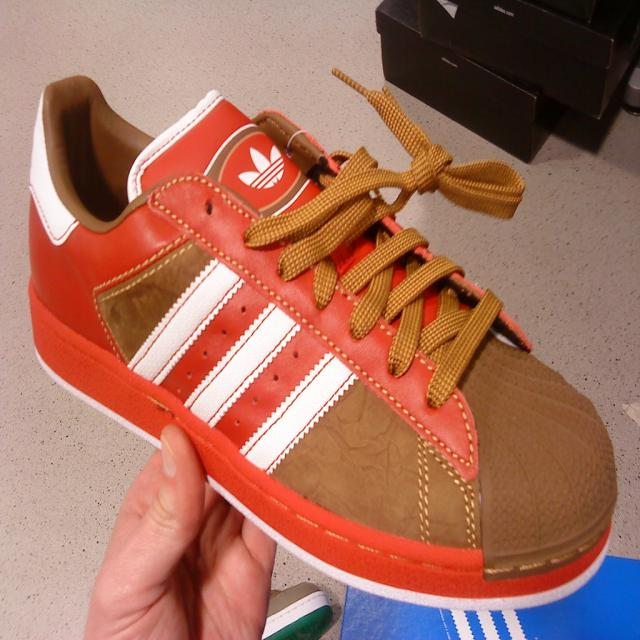adidas: (237, 143, 288, 194)
